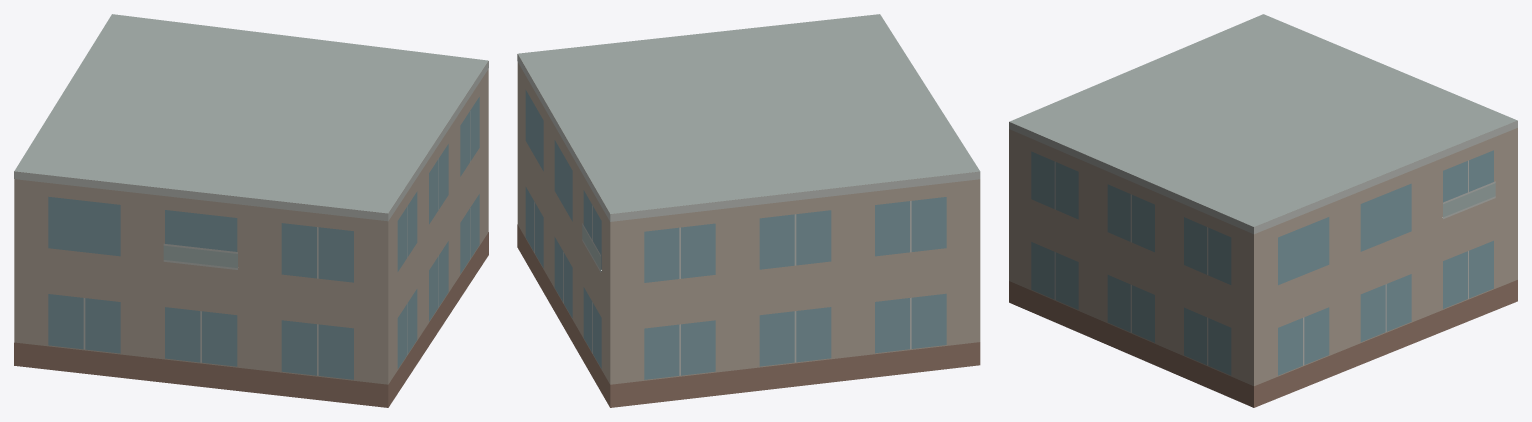
Rendered from survey-upis-32693950.glb.
3 views of the same model, side by side, from view 1: azimuth 30°, elevation 25°; view 2: azimuth 150°, elevation 25°; view 3: azimuth 270°, elevation 25° (orthographic). The views are drawn at different scales.
Visible parts, largest first — view 1: survey-upis-32693950.tmp; view 2: survey-upis-32693950.tmp; view 3: survey-upis-32693950.tmp.
Boxes of the visible parts, <box> form: survey-upis-32693950.tmp: <box>14,14,488,407</box>; survey-upis-32693950.tmp: <box>517,14,980,407</box>; survey-upis-32693950.tmp: <box>1009,14,1517,407</box>.
Size of the model in its own units: 15.43 by 6.1 by 15.56.
